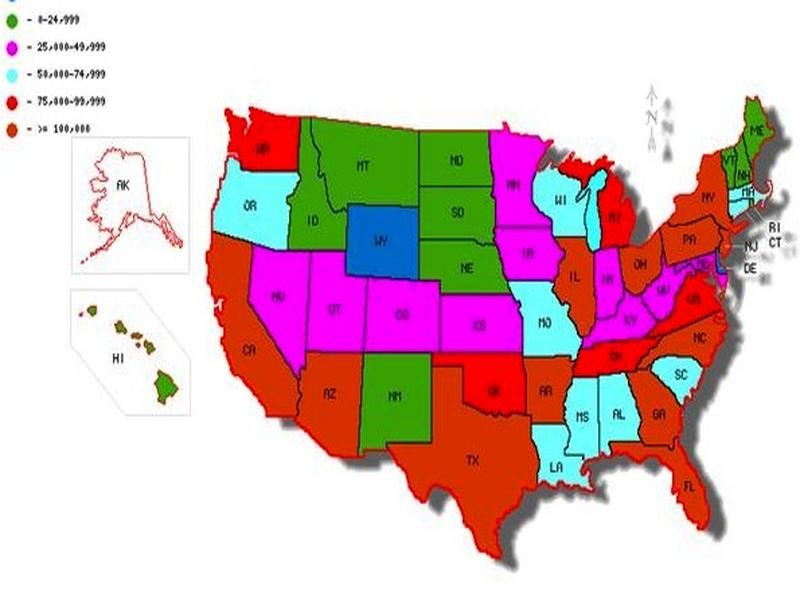legend: (3, 9, 108, 141)
